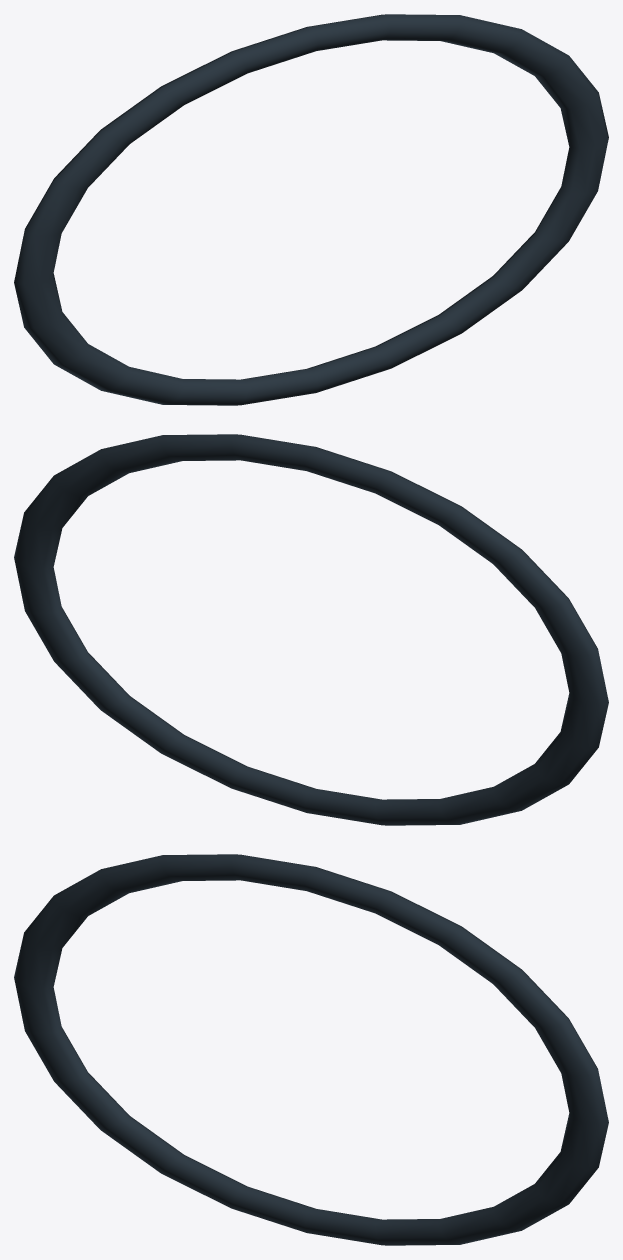
3 views of the same model, one above another, from view 1: azimuth 30°, elevation 25°; view 2: azimuth 150°, elevation 25°; view 3: azimuth 330°, elevation 25° (orthographic).
Visible parts, largest first — view 1: 同步带; view 2: 同步带; view 3: 同步带.
Part boxes in pixels (x1=…): 同步带: x1=14, y1=14, x2=608, y2=405; 同步带: x1=14, y1=434, x2=608, y2=825; 同步带: x1=14, y1=854, x2=608, y2=1245.
Size of the model in its own units: 1.27 by 0.75 by 0.05.
